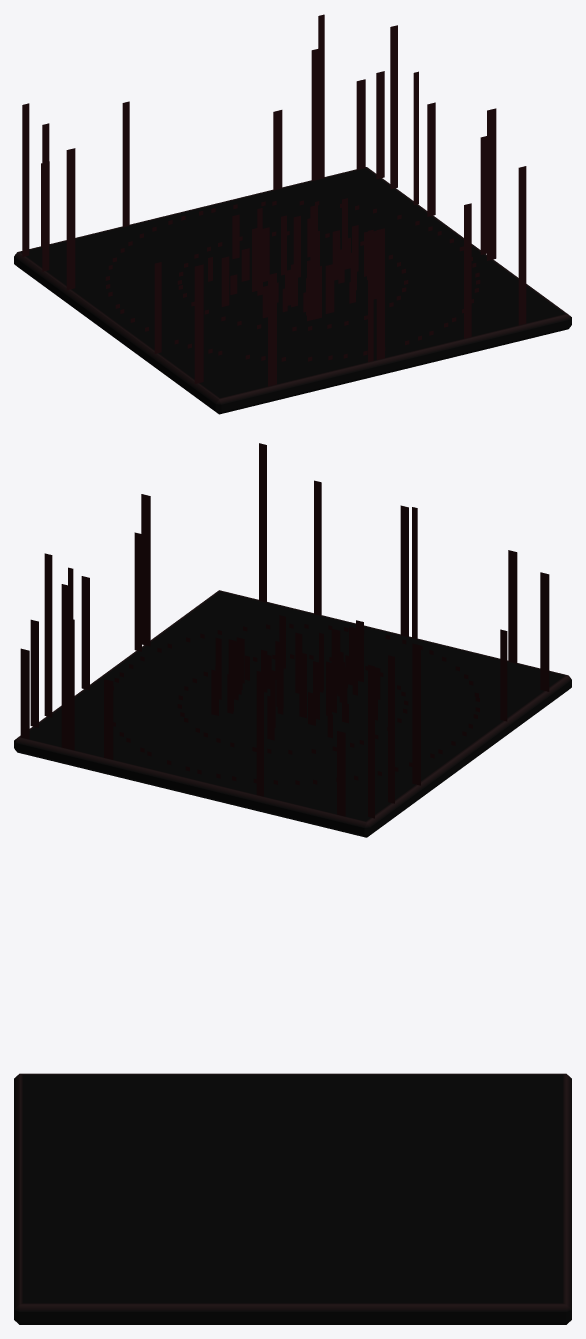
The model's file is black_lair.glb.
The picture shows the model from 3 angles, top to bottom: view 1: azimuth 30°, elevation 25°; view 2: azimuth 150°, elevation 25°; view 3: azimuth 270°, elevation 25°; orthographic projection. The views are drawn at different scales.
Visible parts, largest first — view 1: black_lair_slab, black_lair_thorns, black_lair_mound, black_lair_signs; view 2: black_lair_slab, black_lair_thorns, black_lair_mound, black_lair_signs; view 3: black_lair_slab.
Boxes of the visible parts, left/top/right/bottom form: black_lair_slab: left=14, top=167, right=571, bottom=414; black_lair_thorns: left=22, top=14, right=526, bottom=386; black_lair_mound: left=208, top=198, right=376, bottom=321; black_lair_signs: left=105, top=200, right=480, bottom=361; black_lair_slab: left=14, top=590, right=571, bottom=837; black_lair_thorns: left=20, top=443, right=549, bottom=818; black_lair_mound: left=211, top=615, right=380, bottom=740; black_lair_signs: left=113, top=623, right=479, bottom=785; black_lair_slab: left=14, top=1073, right=571, bottom=1324.
Bounding box in the file's own units: 2 × 0.9575 × 2.
